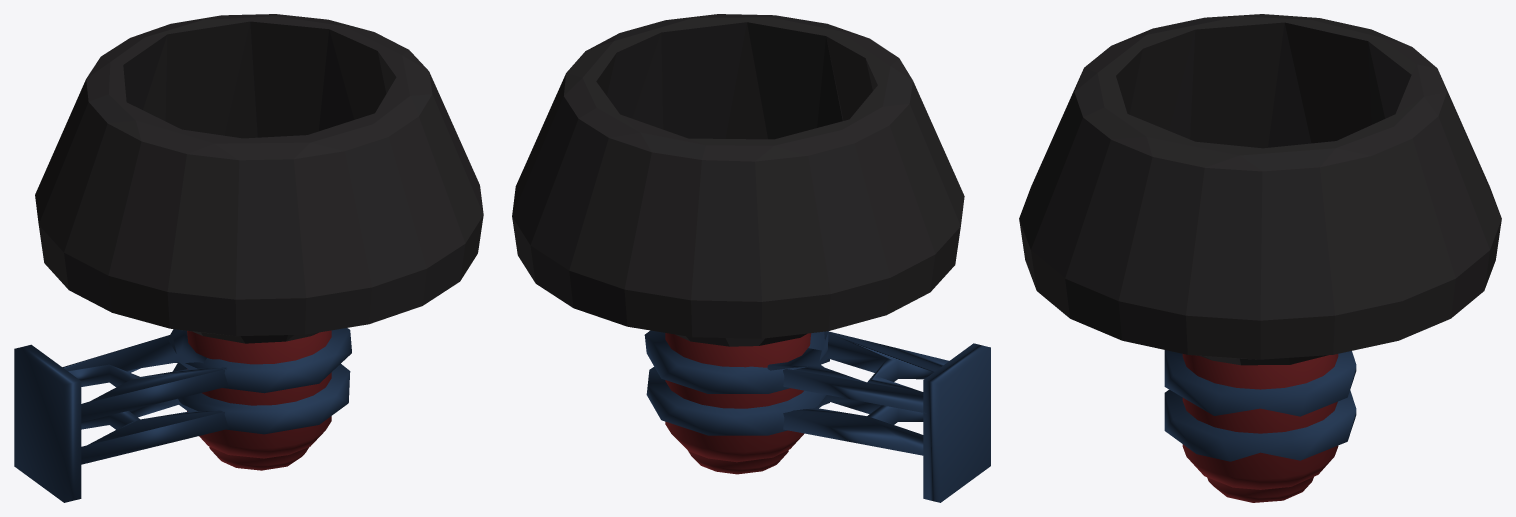
File: pusher.glb
The picture shows the model from 3 angles, left to right: view 1: azimuth 30°, elevation 25°; view 2: azimuth 150°, elevation 25°; view 3: azimuth 270°, elevation 25°; orthographic projection. The views are drawn at different scales.
Parts seen in each view (by area): view 1: 柱体, 立方体, 柱体.002; view 2: 柱体, 立方体, 柱体.002; view 3: 柱体, 立方体, 柱体.002.
Boxes of the visible parts, x1,y1,x2,y2 form: 柱体: [35, 14, 483, 343]; 立方体: [14, 328, 351, 502]; 柱体.002: [187, 330, 331, 470]; 柱体: [512, 14, 964, 346]; 立方体: [644, 330, 990, 502]; 柱体.002: [665, 333, 811, 474]; 柱体: [1019, 14, 1501, 365]; 立方体: [1164, 350, 1356, 461]; 柱体.002: [1182, 354, 1338, 502].
Size of the model in its own units: 2.14 by 1.81 by 2.
